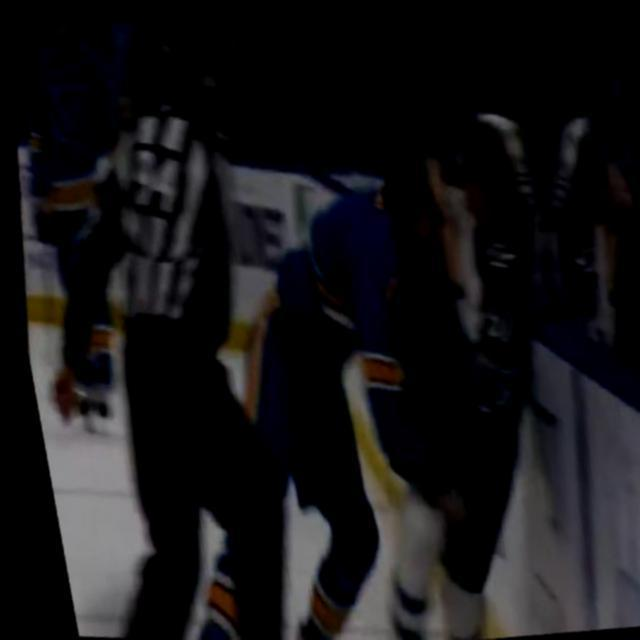fight: (155, 77, 608, 640)
